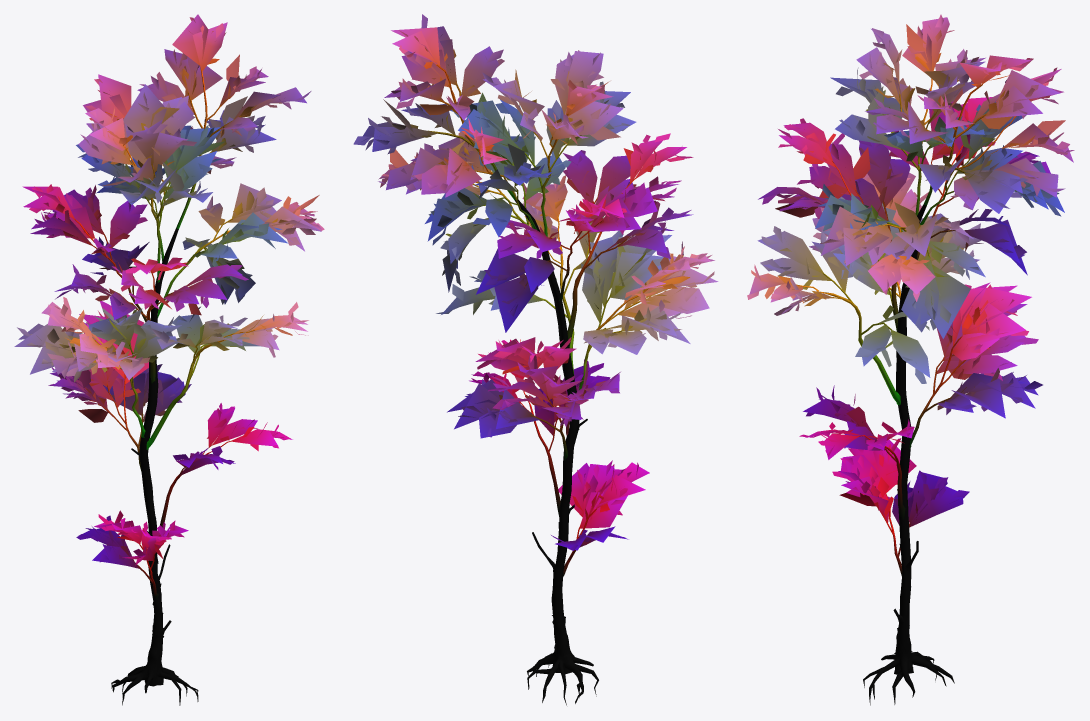
The model's file is SM_EuropeanBeech_M_01.fbx.
3 views of the same model, side by side, from view 1: azimuth 30°, elevation 25°; view 2: azimuth 150°, elevation 25°; view 3: azimuth 270°, elevation 25° (orthographic). The views are drawn at different scales.
Visible parts, largest first — view 1: SM_EuropeanBeech_M_01_LOD0; view 2: SM_EuropeanBeech_M_01_LOD0; view 3: SM_EuropeanBeech_M_01_LOD0.
Boxes of the visible parts, x1,y1,x2,y2 form: SM_EuropeanBeech_M_01_LOD0: (14,14,324,705); SM_EuropeanBeech_M_01_LOD0: (353,14,718,705); SM_EuropeanBeech_M_01_LOD0: (747,14,1074,705).
Size of what is drawn, in the model's own units: 310 by 275 by 636.
